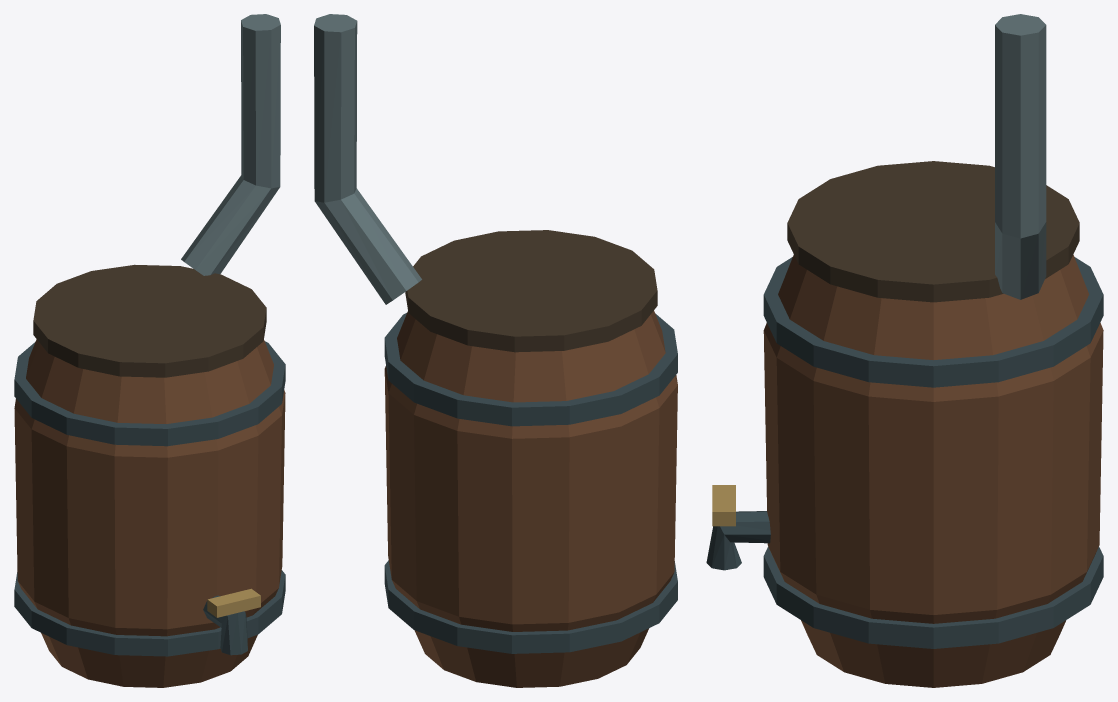
The model's file is Prop_Daily_RainBarrel_001.glb.
3 views of the same model, side by side, from view 1: azimuth 30°, elevation 25°; view 2: azimuth 150°, elevation 25°; view 3: azimuth 270°, elevation 25° (orthographic). The views are drawn at different scales.
Parts seen in each view (by area): view 1: Prop_Daily_RainBarrel_001; view 2: Prop_Daily_RainBarrel_001; view 3: Prop_Daily_RainBarrel_001.
Part boxes in pixels (x1,y1,x2,y2): Prop_Daily_RainBarrel_001: (14, 14, 285, 687); Prop_Daily_RainBarrel_001: (314, 14, 677, 687); Prop_Daily_RainBarrel_001: (706, 14, 1103, 687).
Size of the model in its own units: 1.02 by 1.95 by 1.
